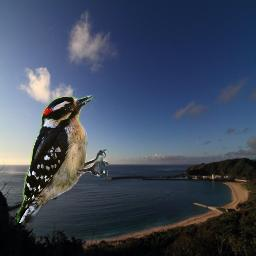Woodpecker: (17, 95, 109, 223)
